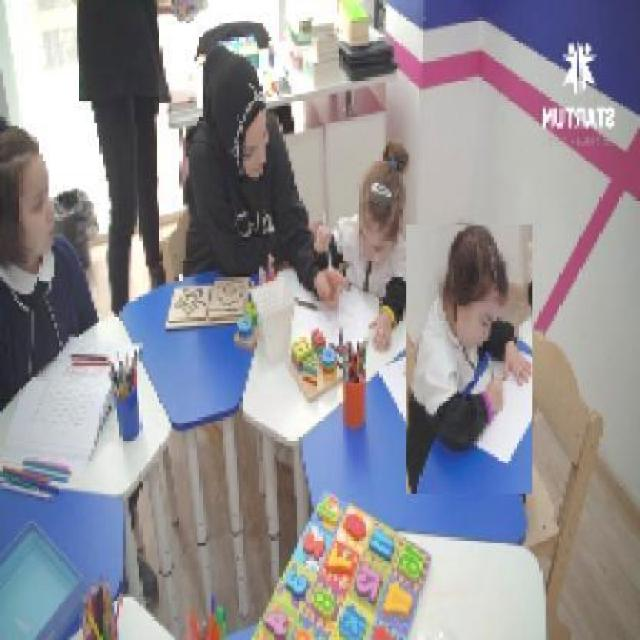child: (405, 224, 532, 496), (328, 138, 412, 351)
